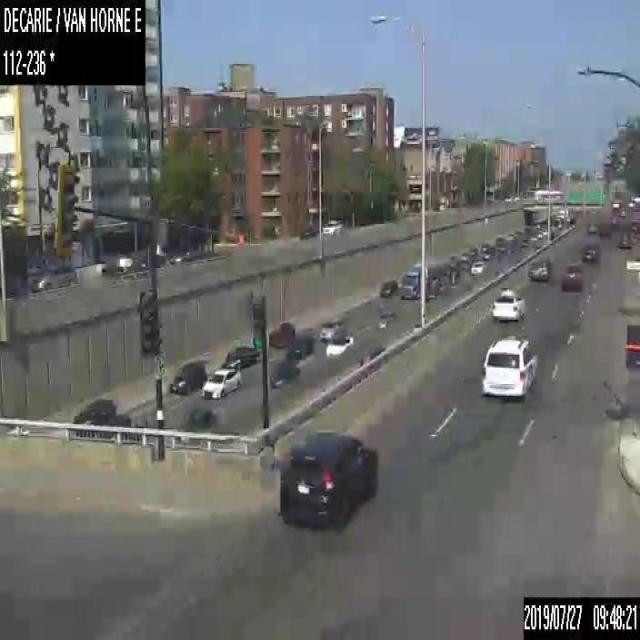bus: (534, 188, 562, 201)
construction: (239, 233, 243, 247)
vehicle: (277, 428, 378, 529), (481, 335, 538, 396), (72, 396, 131, 427), (28, 262, 77, 290), (402, 262, 440, 298), (171, 360, 207, 393), (201, 368, 240, 398), (491, 288, 524, 319), (181, 404, 216, 432), (268, 360, 298, 385), (225, 347, 259, 368), (268, 321, 294, 347), (324, 332, 354, 354), (286, 333, 312, 357), (169, 247, 203, 264), (560, 264, 582, 290), (359, 346, 384, 366), (320, 318, 342, 340), (529, 259, 552, 280), (375, 308, 394, 329), (379, 276, 398, 296), (299, 220, 319, 238), (322, 218, 342, 234), (580, 243, 597, 260), (616, 230, 631, 247), (470, 260, 486, 275), (588, 220, 595, 232)
